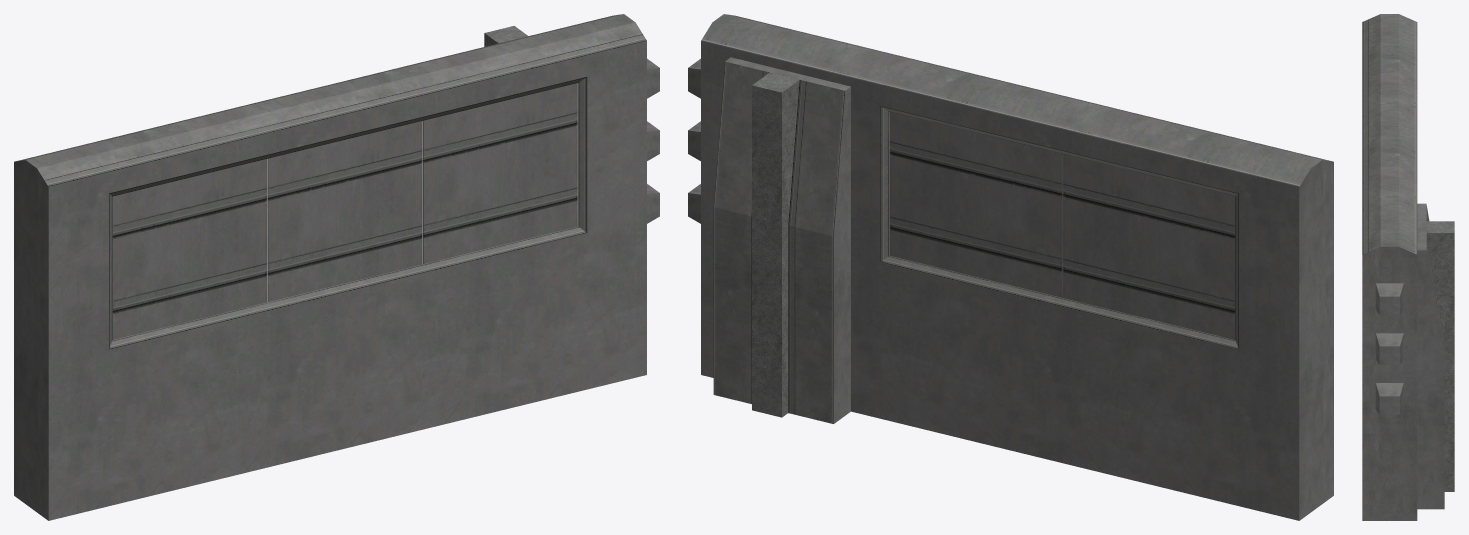
Rendered from mun_all_military_base_gate_impl_s01_l0.fbx.
3 views of the same model, side by side, from view 1: azimuth 30°, elevation 25°; view 2: azimuth 150°, elevation 25°; view 3: azimuth 270°, elevation 25° (orthographic). The views are drawn at different scales.
Parts seen in each view (by area): view 1: mesh_node; view 2: mesh_node; view 3: mesh_node.
Part boxes in pixels (<box>): mesh_node: <box>14,14,659,520</box>; mesh_node: <box>688,14,1333,520</box>; mesh_node: <box>1362,14,1454,520</box>.
Size of the model in its own units: 10.41 by 5.5 by 1.68.
